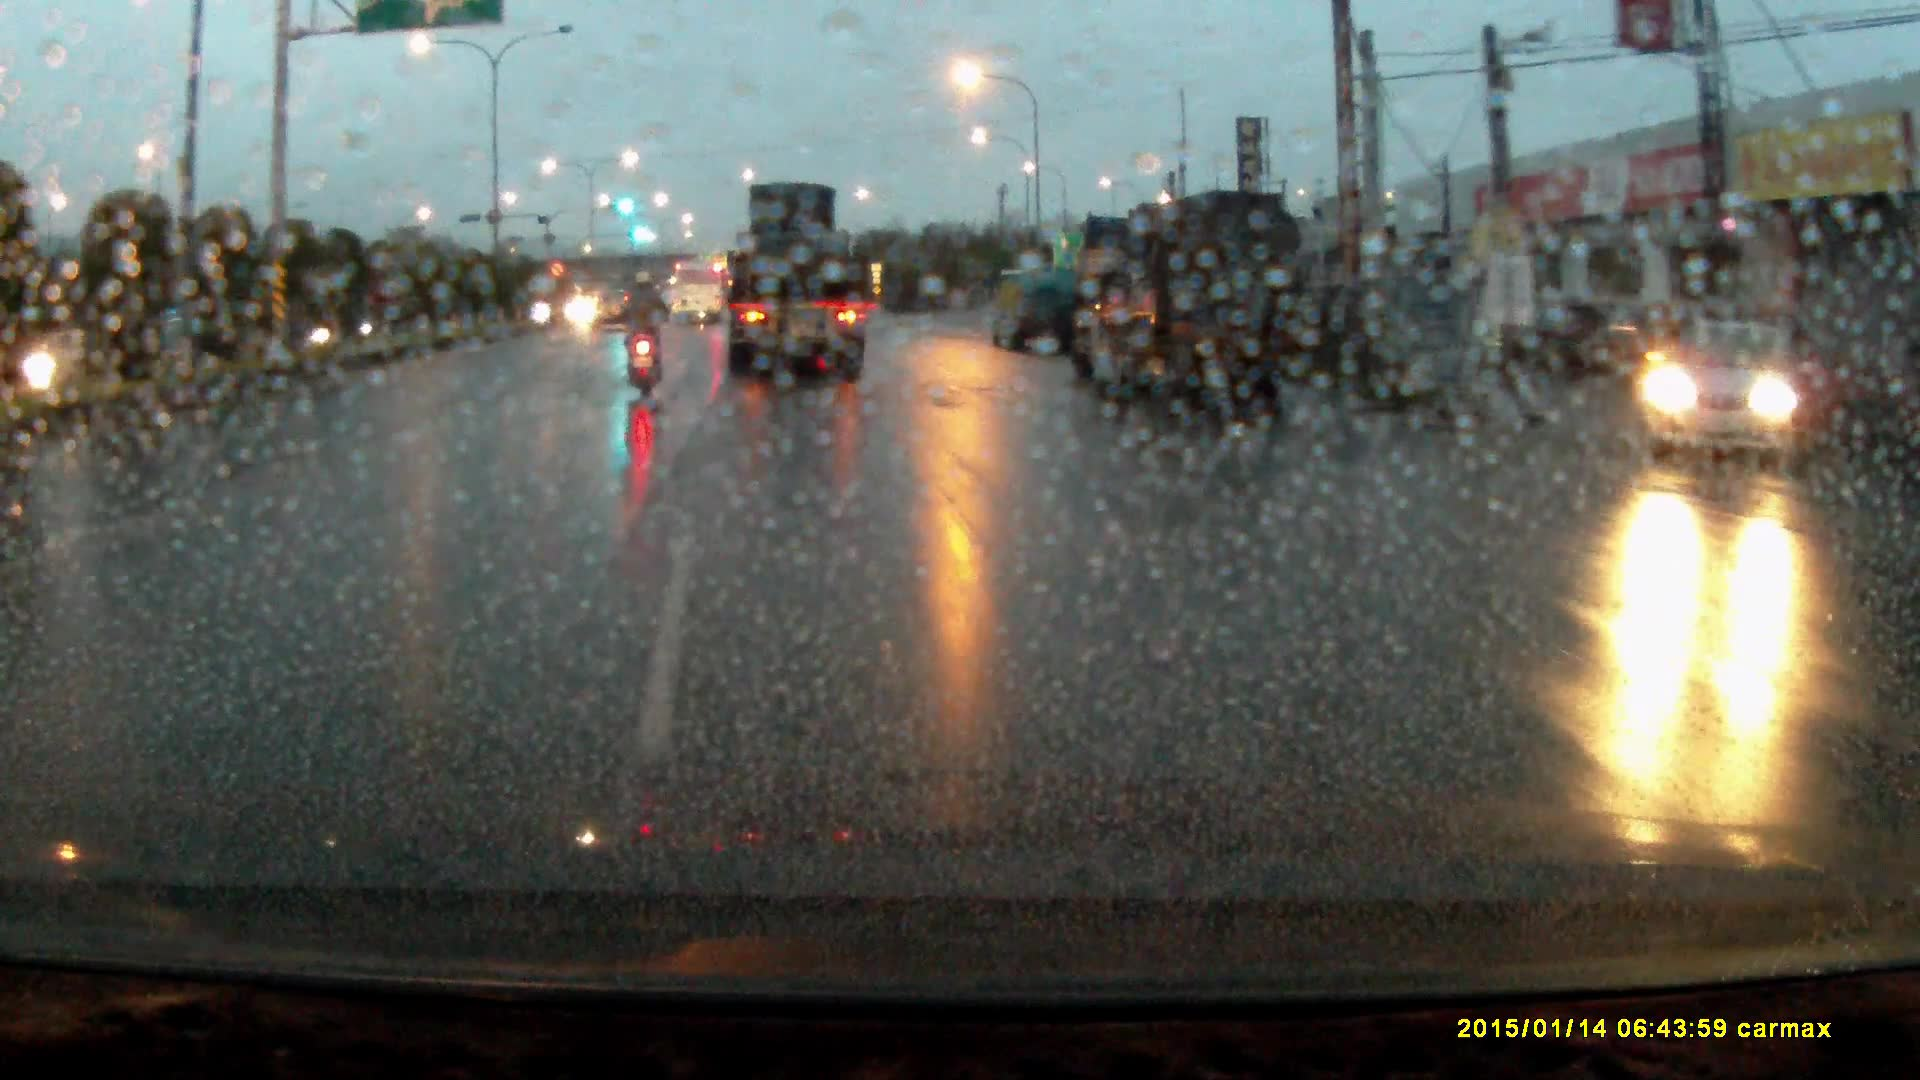rider: (623, 270, 679, 403)
vehicle: (1071, 190, 1319, 421), (1642, 313, 1834, 460), (732, 180, 867, 375), (992, 266, 1085, 349), (673, 260, 725, 324), (593, 285, 644, 332)
